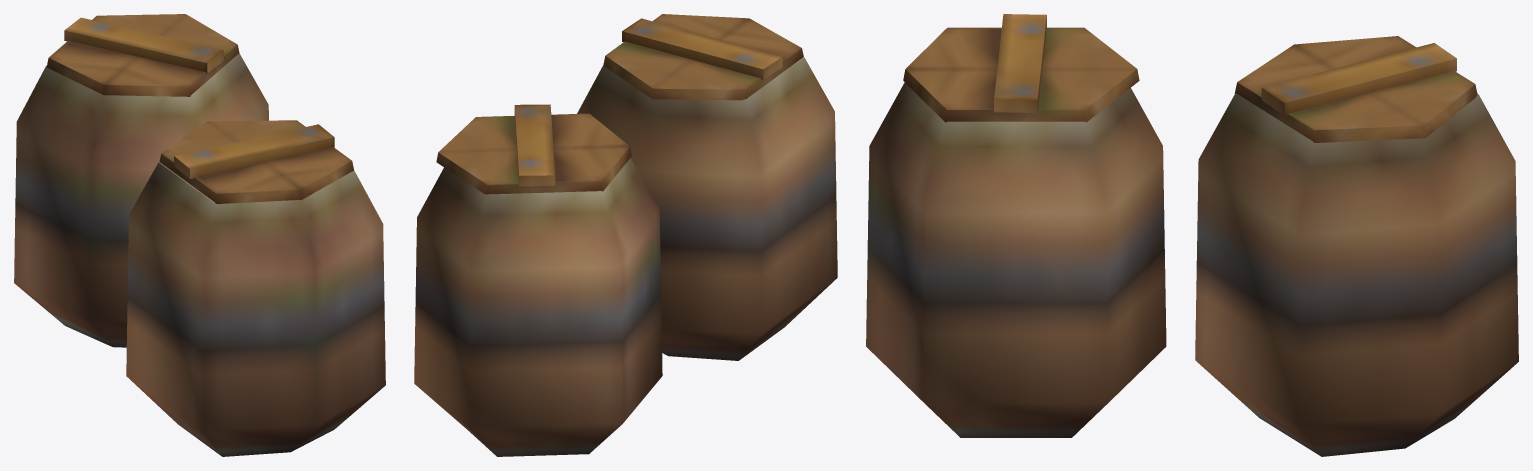
File: area_11_3.fbx
3 renders of one model, left to right at view 1: azimuth 30°, elevation 25°; view 2: azimuth 150°, elevation 25°; view 3: azimuth 270°, elevation 25°, orthographic. The views are drawn at different scales.
Visible parts, largest first — view 1: area_11_3; view 2: area_11_3; view 3: area_11_3.
Boxes of the visible parts, x1,y1,x2,y2 form: area_11_3: [14, 14, 385, 456]; area_11_3: [414, 14, 837, 456]; area_11_3: [866, 14, 1518, 456].
Size of the model in its own units: 0.9335 by 1.12 by 1.92.
